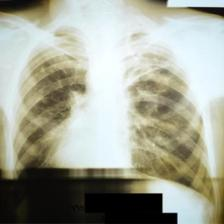tuberculosis: (6, 17, 220, 205)
